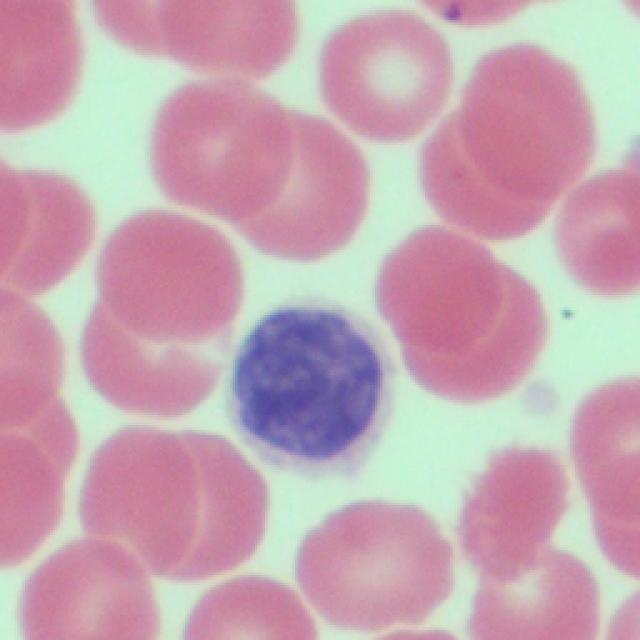RBC: (396, 252, 547, 401), (460, 39, 600, 196), (294, 502, 454, 632), (150, 81, 298, 220), (421, 98, 562, 243), (236, 113, 371, 262), (136, 432, 268, 581), (98, 210, 242, 342), (318, 8, 456, 143), (82, 426, 200, 580), (81, 299, 223, 422), (378, 228, 508, 355), (17, 537, 168, 639), (457, 446, 570, 579), (466, 548, 598, 640), (0, 170, 99, 292), (157, 0, 300, 84), (0, 0, 83, 135), (557, 168, 638, 292), (0, 294, 67, 432), (575, 378, 640, 520), (182, 575, 316, 640), (0, 431, 61, 564), (594, 450, 640, 583)
WBC: (222, 294, 398, 480)
